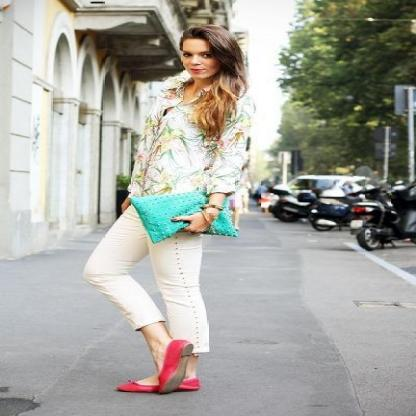bag: (137, 188, 236, 240)
pants: (83, 208, 208, 352)
shirt: (118, 70, 258, 228)
shoe: (115, 340, 198, 394)
